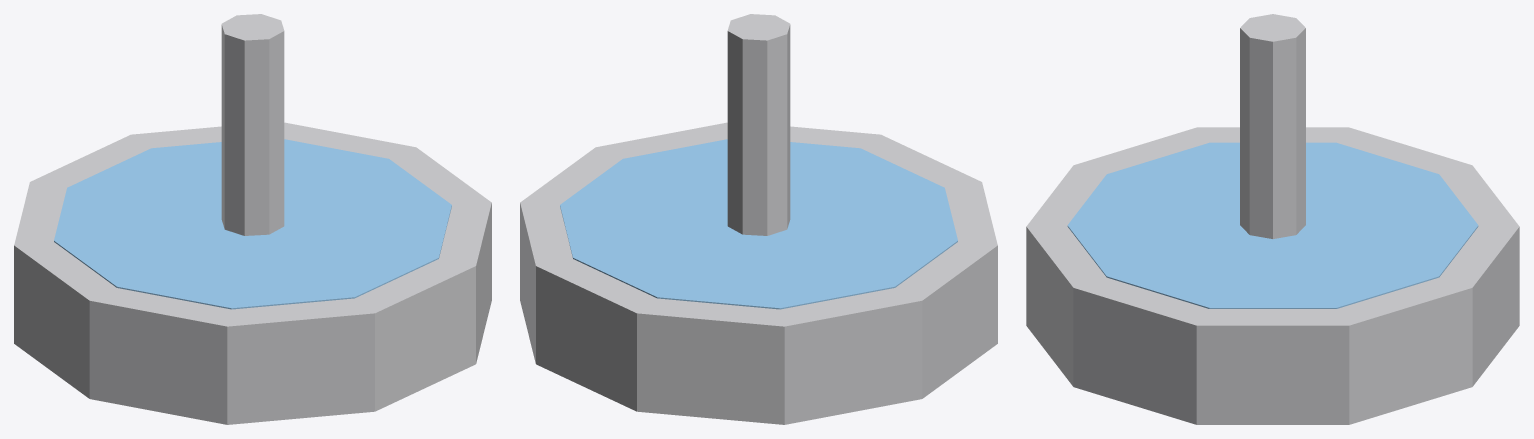
Rendered from fuente.glb.
3 renders of one model, left to right at view 1: azimuth 30°, elevation 25°; view 2: azimuth 150°, elevation 25°; view 3: azimuth 270°, elevation 25°, orthographic.
Visible parts, largest first — view 1: Cylinder, Cylinder.001, Cylinder.002; view 2: Cylinder, Cylinder.001, Cylinder.002; view 3: Cylinder, Cylinder.001, Cylinder.002.
Part boxes in pixels (bbox=[...]): Cylinder: bbox=[14, 122, 491, 424]; Cylinder.001: bbox=[54, 139, 451, 309]; Cylinder.002: bbox=[221, 14, 284, 235]; Cylinder: bbox=[520, 122, 997, 424]; Cylinder.001: bbox=[560, 139, 957, 309]; Cylinder.002: bbox=[727, 14, 790, 235]; Cylinder: bbox=[1026, 127, 1519, 424]; Cylinder.001: bbox=[1067, 142, 1478, 308]; Cylinder.002: bbox=[1240, 14, 1305, 238].
Size of the model in its own units: 1.71 by 1.2 by 1.8.
